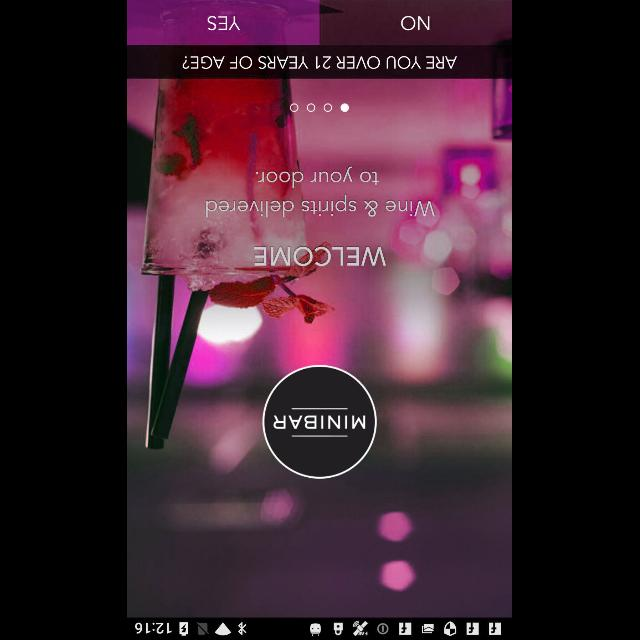backgroundimage: (128, 79, 512, 617)
image: (264, 365, 378, 479)
pageindicator: (290, 103, 350, 113)
text: (207, 166, 438, 218), (182, 56, 458, 68), (255, 246, 388, 266)
textbutton: (321, 0, 513, 44), (128, 0, 320, 44)
uppertaskbar: (128, 617, 512, 639)
